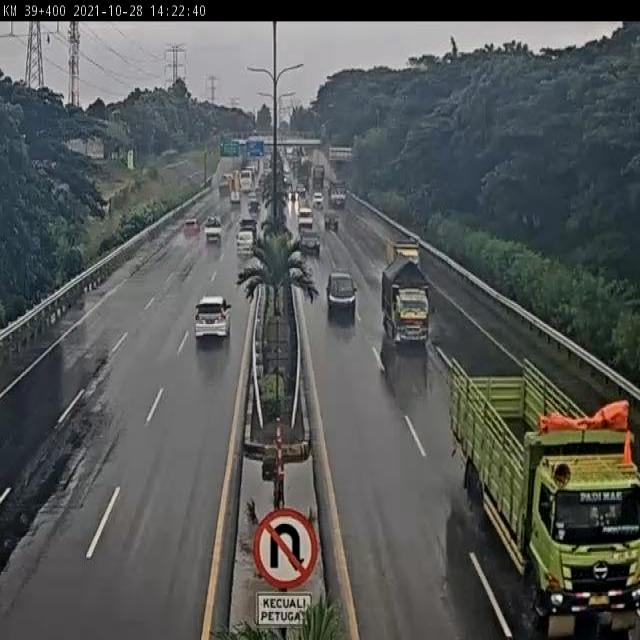Car: (192, 295, 233, 340), (326, 271, 358, 322), (298, 230, 320, 256), (236, 228, 255, 258), (204, 216, 222, 244), (183, 218, 199, 236), (312, 192, 324, 208)
Truck: (450, 356, 640, 640), (380, 255, 432, 351), (328, 179, 346, 205)
